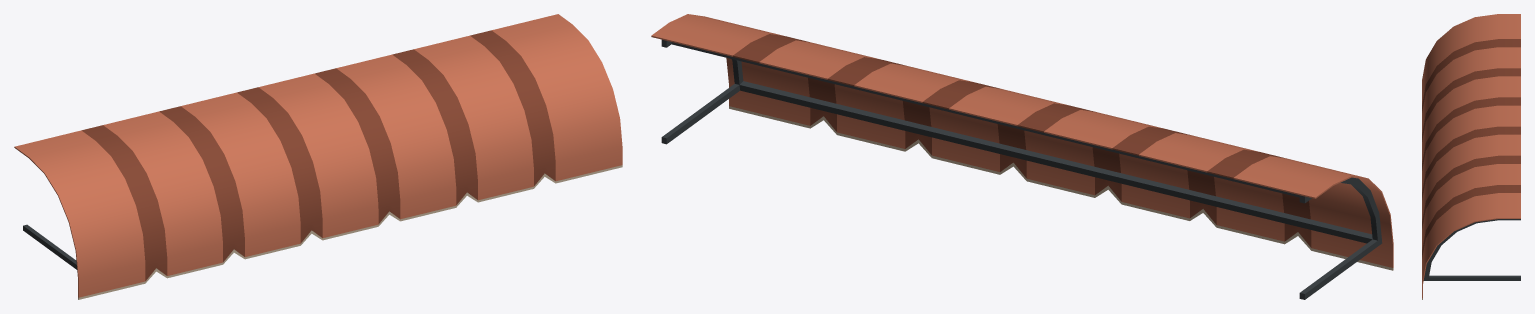
The model's file is SM_BuildingsDecor_39.fbx.
The picture shows the model from 3 angles, left to right: view 1: azimuth 30°, elevation 25°; view 2: azimuth 150°, elevation 25°; view 3: azimuth 270°, elevation 25°; orthographic projection. The views are drawn at different scales.
Parts seen in each view (by area): view 1: SM_BuildingsDecor_39; view 2: SM_BuildingsDecor_39; view 3: SM_BuildingsDecor_39.
Boxes of the visible parts, x1,y1,x2,y2 form: SM_BuildingsDecor_39: (14, 14, 622, 299); SM_BuildingsDecor_39: (651, 14, 1393, 299); SM_BuildingsDecor_39: (1422, 14, 1520, 299).
Size of the model in its own units: 5 by 0.9341 by 1.02.
